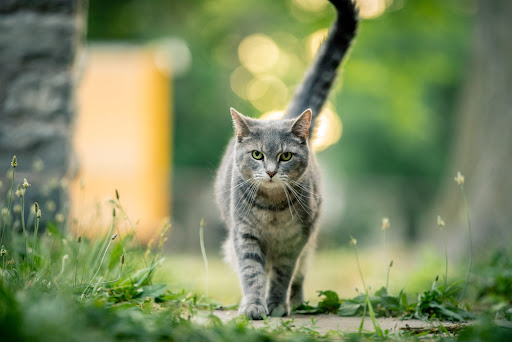cat: (213, 19, 355, 319)
